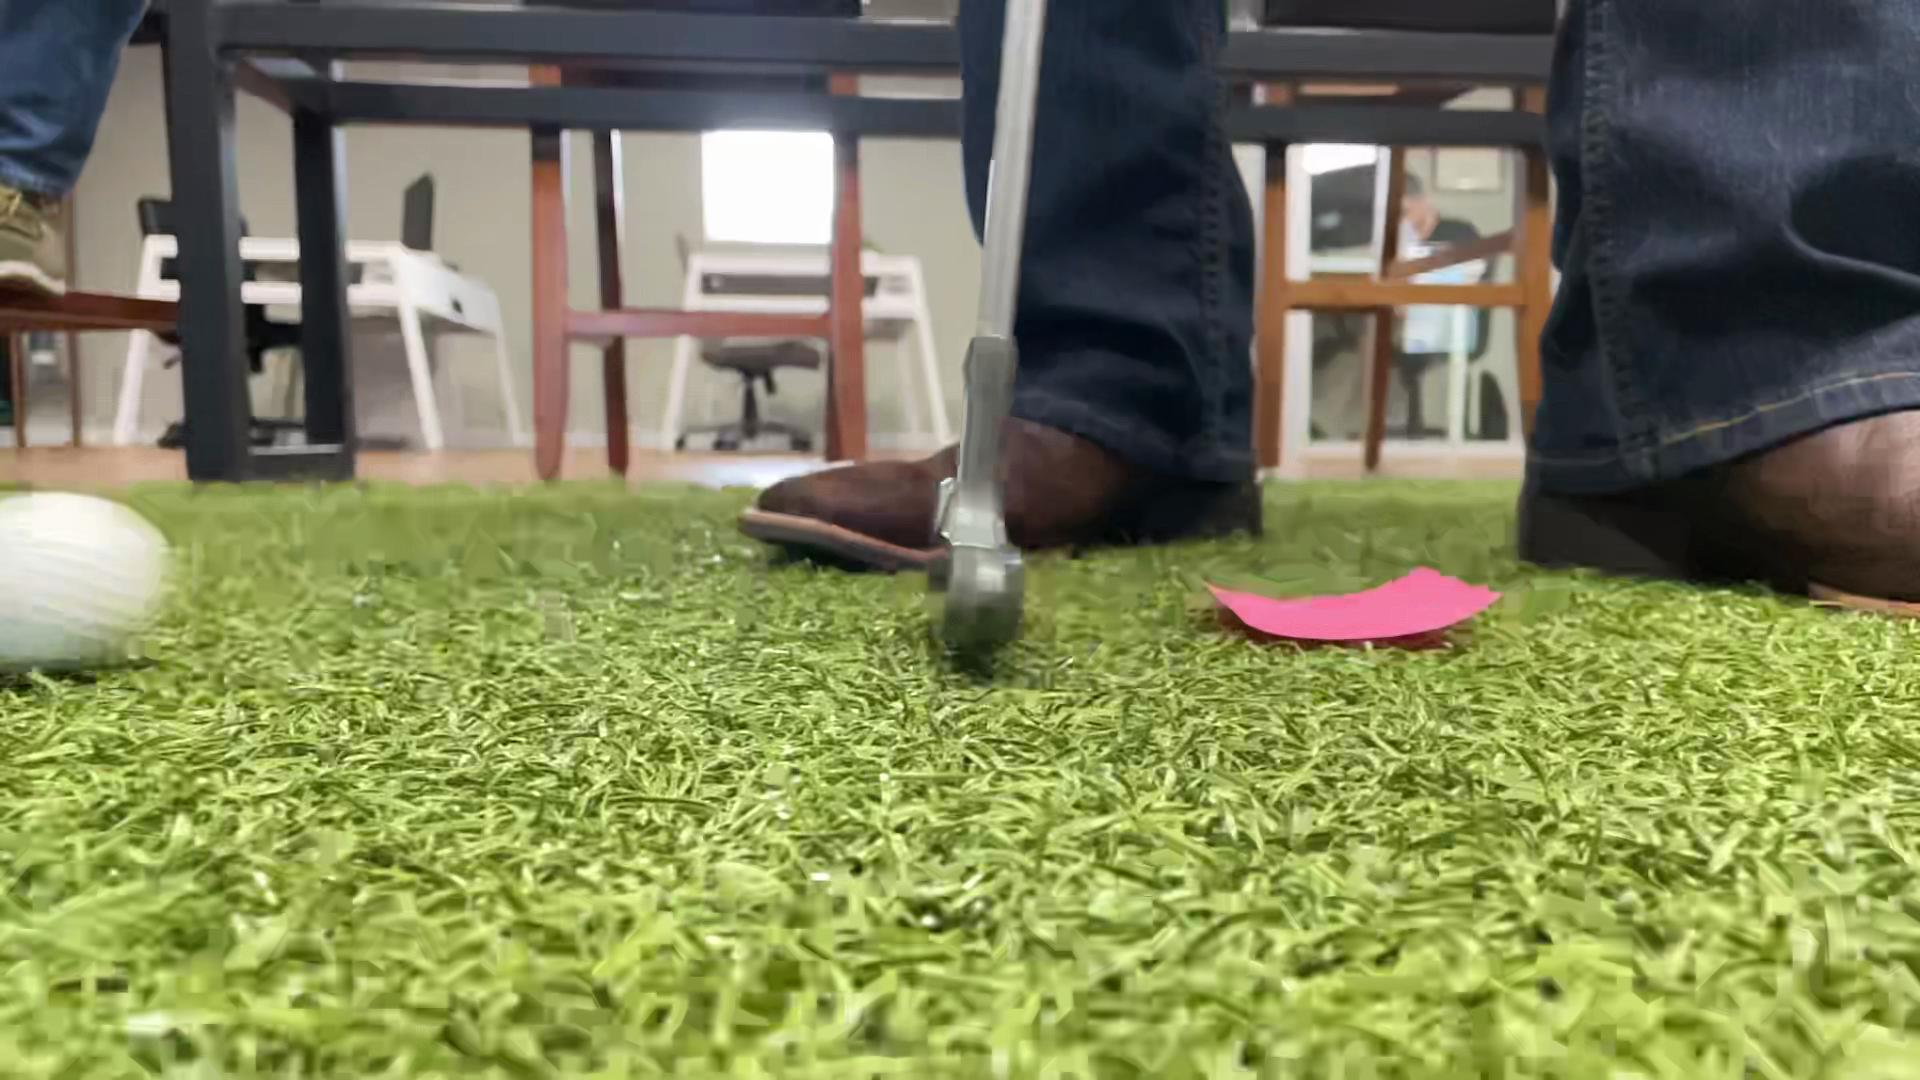golfball: (0, 493, 169, 662)
